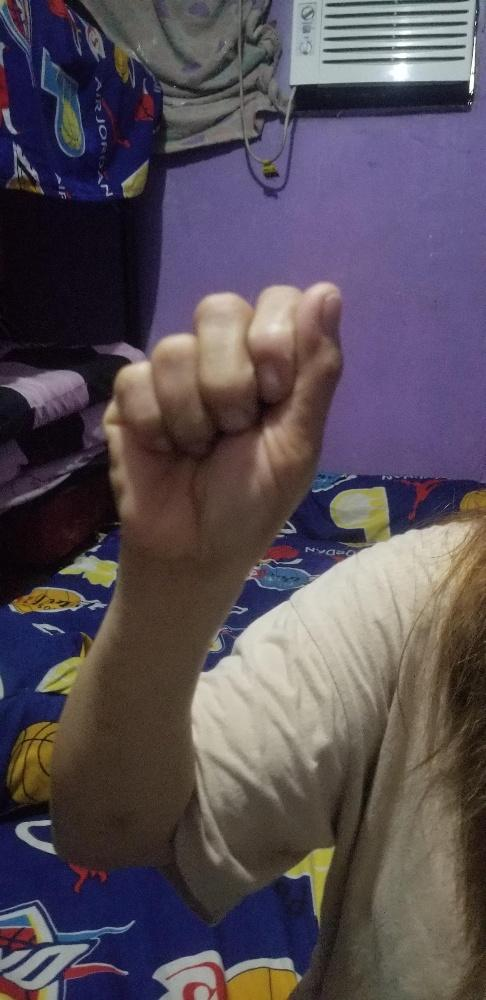a: (105, 280, 344, 553)
